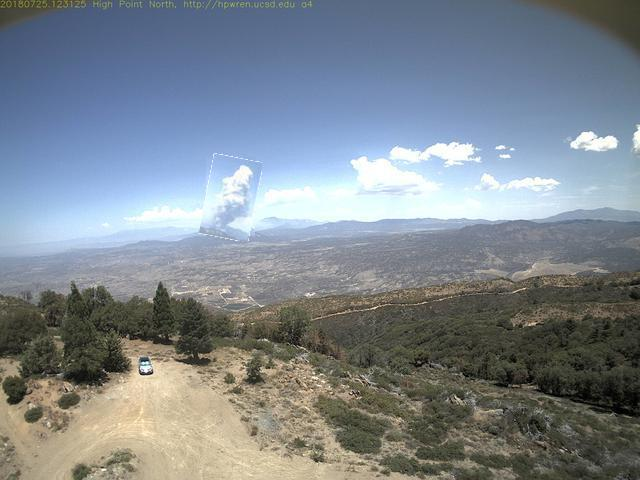smoke: (204, 156, 261, 241)
